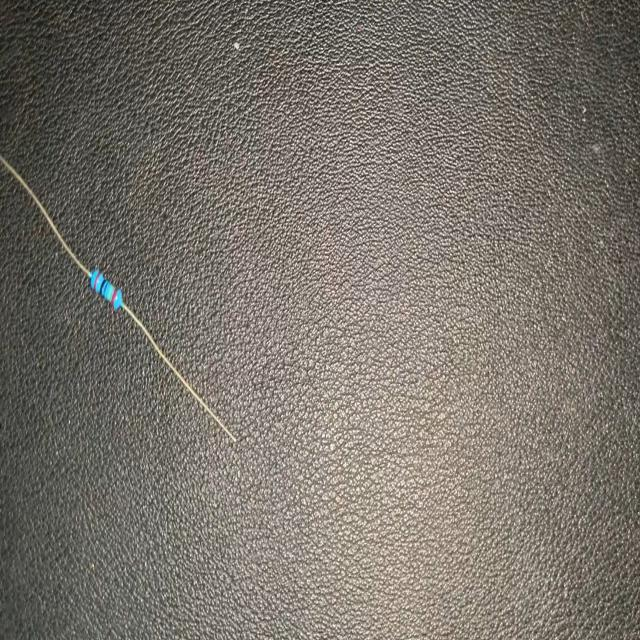resistor: (0, 153, 238, 442)
